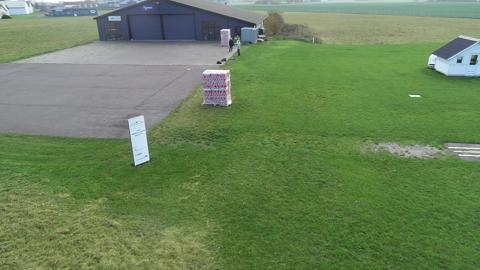RockwoolPallet: (220, 29, 232, 48)
